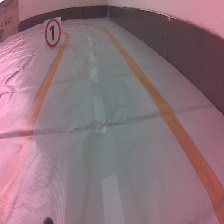limit: (42, 15, 63, 52)
